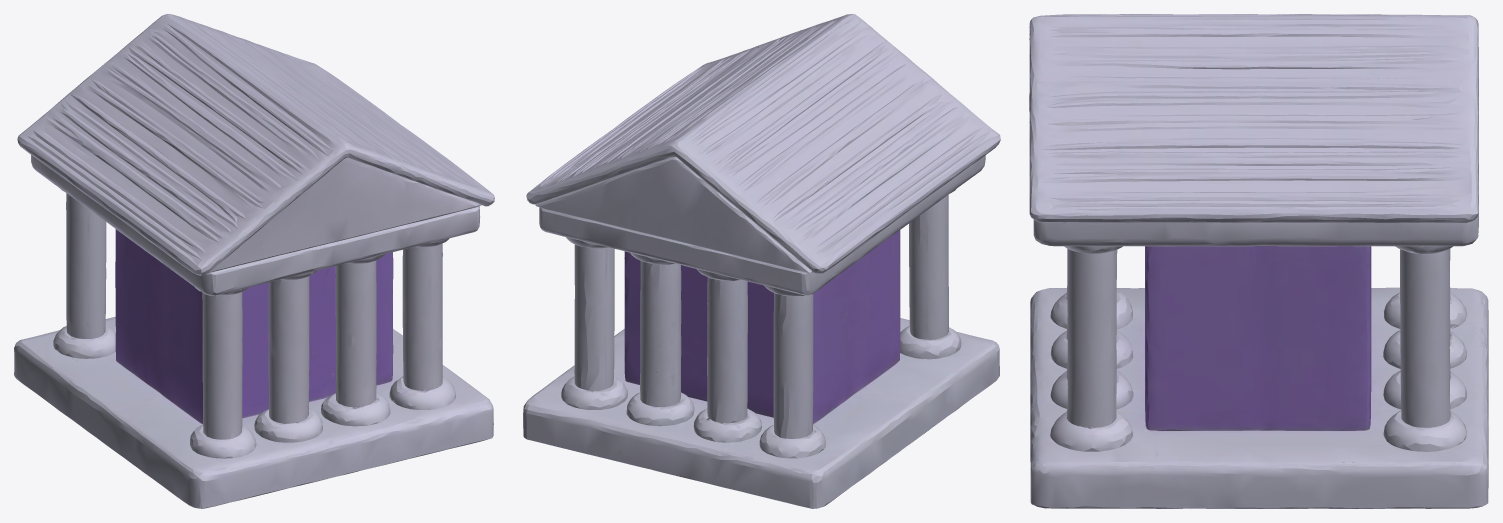
The model's file is museum.glb.
3 renders of one model, left to right at view 1: azimuth 30°, elevation 25°; view 2: azimuth 150°, elevation 25°; view 3: azimuth 270°, elevation 25°, orthographic. The views are drawn at different scales.
Parts seen in each view (by area): view 1: model; view 2: model; view 3: model.
Boxes of the visible parts, x1,y1,x2,y2 form: model: (14, 14, 494, 508); model: (523, 14, 1000, 508); model: (1029, 14, 1488, 508).
Size of the model in its own units: 0.9322 by 0.9703 by 1.
Materials: 1 (1 with a texture image).
